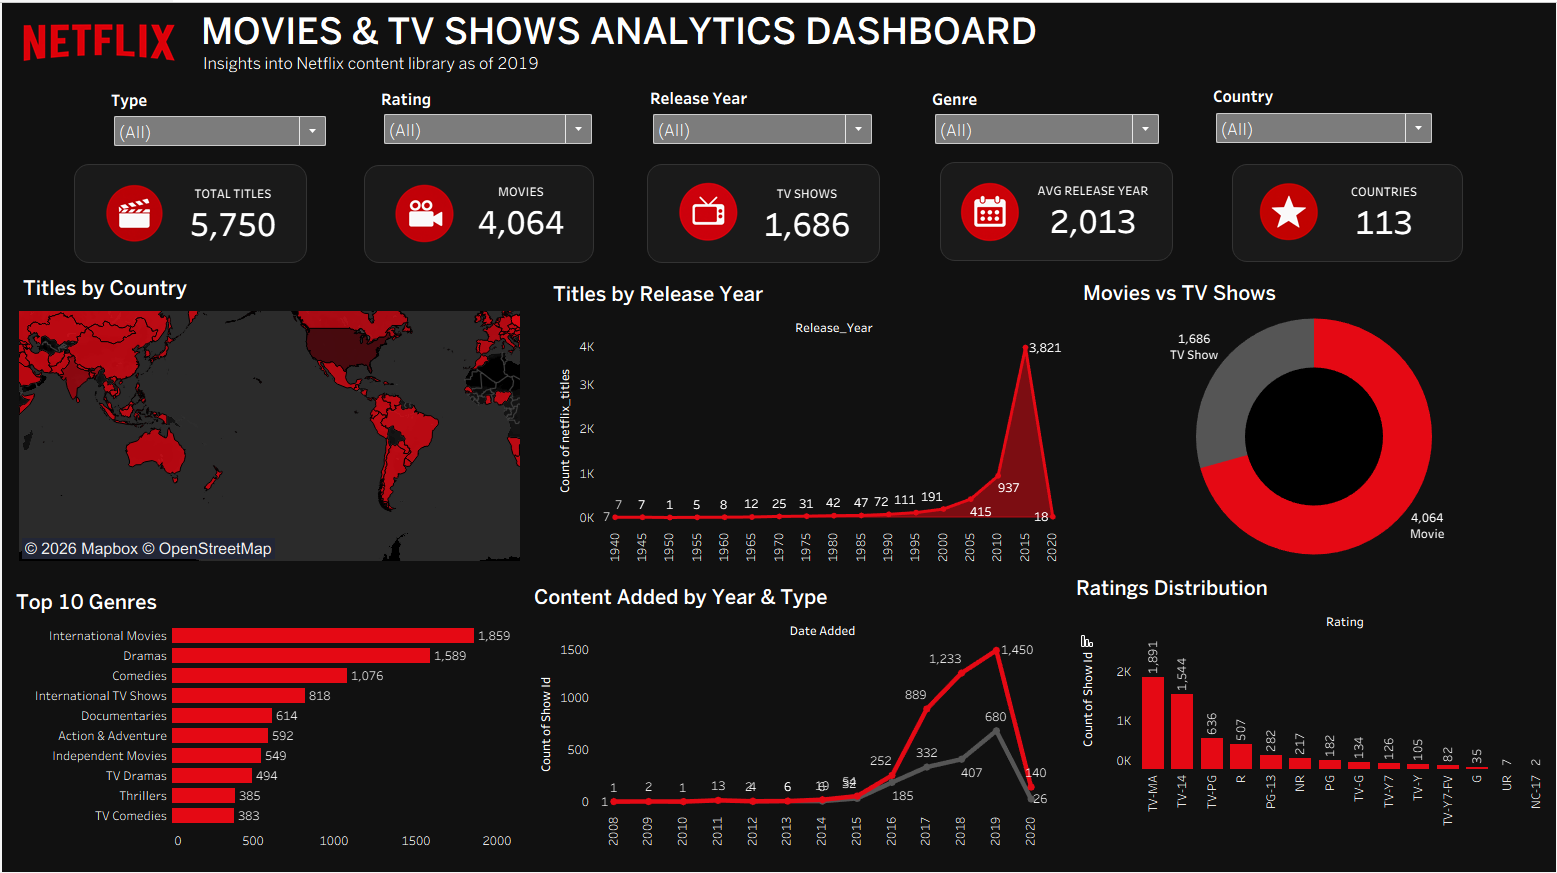

What the dashboard file says about the page in this screenshot:
{"tool":"tableau","page":{"name":"Dashboard 1","canvas":[1554,869],"ordinal":0},"visuals":[{"type":"title","box":[8,8,1538,18]},{"type":"image","param":"Image/ChatGPT Image Sep 1, 2026, 11_41_46 PM.png","box":[15,12,198,55]},{"type":"text","box":[8,26,1538,18]},{"type":"text","box":[197,45,449,30]},{"type":"filter","title":"Sheet 2","param":"[federated.07feqfe02j8h1y1aiw9dl1ltrc7y].[none:country:nk]","box":[1211,82,222,60]},{"type":"filter","title":"Sheet 2","param":"[federated.07feqfe02j8h1y1aiw9dl1ltrc7y].[none:release_year:ok]","box":[648,84,225,59]},{"type":"filter","title":"Sheet 2","param":"[federated.07feqfe02j8h1y1aiw9dl1ltrc7y].[none:rating:nk]","box":[379,85,214,57]},{"type":"filter","title":"Sheet 2","param":"[federated.07feqfe02j8h1y1aiw9dl1ltrc7y].[none:listed_in:nk]","box":[930,85,230,57]},{"type":"filter","title":"Sheet 2","param":"[federated.07feqfe02j8h1y1aiw9dl1ltrc7y].[none:type:nk]","box":[109,86,218,59]},{"type":"blank","box":[938,159,233,99]},{"type":"blank","box":[72,161,233,99]},{"type":"blank","box":[645,161,233,99]},{"type":"blank","box":[1230,161,231,98]},{"type":"blank","box":[362,162,230,98]},{"type":"worksheet","title":"Sheet 13","mark":"Automatic","box":[1031,164,120,83]},{"type":"worksheet","title":"Sheet 10","mark":"Automatic","box":[469,165,103,78]},{"type":"worksheet","title":"Sheet 12","mark":"Automatic","box":[1342,165,96,86]},{"type":"worksheet","title":"Sheet 9","mark":"Automatic","box":[181,167,104,76]},{"type":"worksheet","title":"Sheet 11","mark":"Automatic","box":[755,167,104,81]},{"type":"image","param":"Image/ChatGPT Image Sep 4, 2026, 04_43_15 PM.png","box":[673,174,73,66]},{"type":"image","param":"Image/ChatGPT Image Sep 4, 2026, 04_39_23 PM.png","box":[99,176,72,66]},{"type":"image","param":"Image/ChatGPT Image Sep 4, 2026, 04_45_03 PM.png","box":[956,176,73,63]},{"type":"image","param":"Image/ChatGPT Image Sep 4, 2026, 04_41_14 PM.png","box":[390,177,69,64]},{"type":"image","param":"Image/ChatGPT Image Sep 4, 2026, 05_24_45 PM.png","box":[1255,177,64,63]},{"type":"worksheet","title":"Sheet 1","mark":"Multipolygon","box":[17,269,501,289]},{"type":"worksheet","title":"Sheet 2","mark":"Pie","cols":["Calculation_1283994914320384","Calculation_1283994914320384"],"box":[1077,274,470,280]},{"type":"worksheet","title":"Sheet 3","mark":"Area","rows":["netflix!titles_81658F671F7743B78D1626AB653B339D","netflix!titles_81658F671F7743B78D1626AB653B339D"],"cols":["Release Year Clean (bin)"],"box":[547,275,518,289]},{"type":"worksheet","title":"Sheet 6","mark":"Automatic","rows":["show_id"],"cols":["rating"],"box":[1070,569,479,297]},{"type":"worksheet","title":"Sheet 5","mark":"Line","rows":["show_id"],"cols":["date_added"],"box":[528,578,518,290]}]}

Visuals, with their boxes in screenshot pixels (x1, y1, x2, y2), scaled from the page's 1554x869 canvas onto the 1557x873 screenshot:
title: 8, 8, 1549, 26
image: 15, 12, 213, 67
text: 8, 26, 1549, 44
text: 197, 45, 647, 75
"Sheet 2" filter: 1213, 82, 1436, 143
"Sheet 2" filter: 649, 84, 875, 144
"Sheet 2" filter: 380, 85, 594, 143
"Sheet 2" filter: 932, 85, 1162, 143
"Sheet 2" filter: 109, 86, 328, 146
blank: 940, 160, 1173, 259
blank: 72, 162, 306, 261
blank: 646, 162, 880, 261
blank: 1232, 162, 1464, 260
blank: 363, 163, 593, 261
"Sheet 13" worksheet: 1033, 165, 1153, 248
"Sheet 10" worksheet: 470, 166, 573, 244
"Sheet 12" worksheet: 1345, 166, 1441, 252
"Sheet 9" worksheet: 181, 168, 286, 244
"Sheet 11" worksheet: 756, 168, 861, 249
image: 674, 175, 747, 241
image: 99, 177, 171, 243
image: 958, 177, 1031, 240
image: 391, 178, 460, 242
image: 1257, 178, 1322, 241
"Sheet 1" worksheet (Multipolygon marks): 17, 270, 519, 561
"Sheet 2" worksheet (Pie marks): 1079, 275, 1550, 557
"Sheet 3" worksheet (Area marks): 548, 276, 1067, 567
"Sheet 6" worksheet: 1072, 572, 1552, 870
"Sheet 5" worksheet (Line marks): 529, 581, 1048, 872
